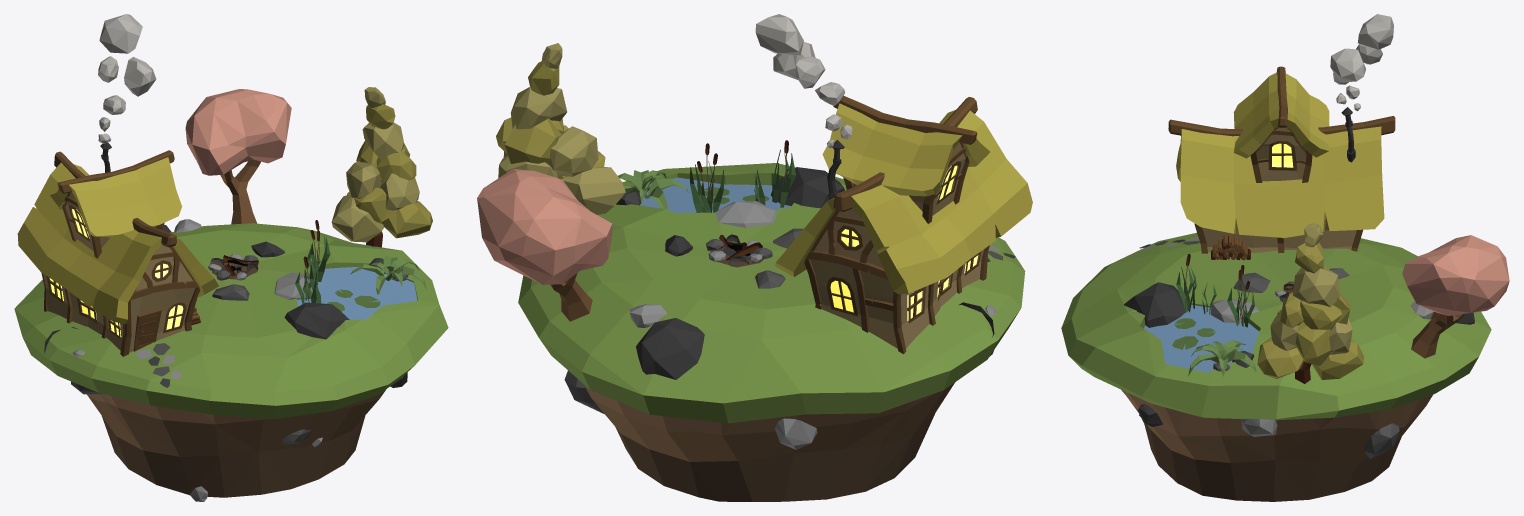
The model's file is islandwithhouse_lowpoly.glb.
The picture shows the model from 3 angles, left to right: view 1: azimuth 30°, elevation 25°; view 2: azimuth 150°, elevation 25°; view 3: azimuth 270°, elevation 25°; orthographic projection. The views are drawn at different scales.
Visible parts, largest first — view 1: Platteausäule; view 2: Platteausäule; view 3: Platteausäule.
Boxes of the visible parts, <box> form: Platteausäule: <box>14,14,448,501</box>; Platteausäule: <box>477,14,1032,501</box>; Platteausäule: <box>1061,14,1509,501</box>.
Bounding box in the file's own units: 8.54 × 8.71 × 8.52.
